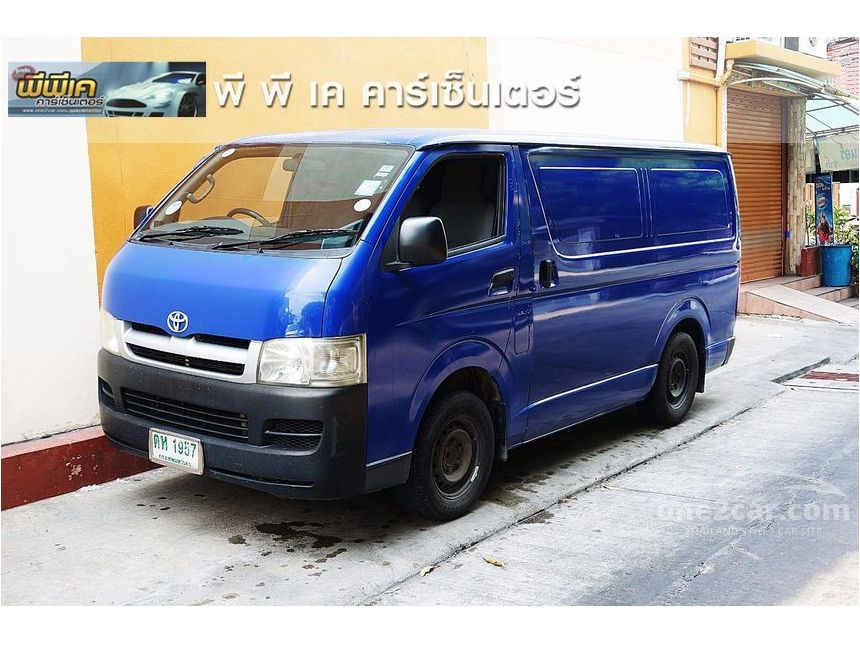van: (94, 127, 744, 523)
